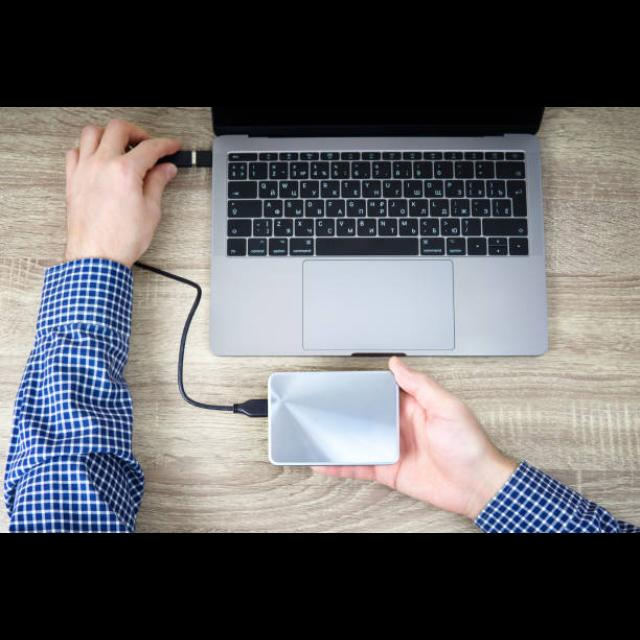HDD: (265, 372, 403, 469)
